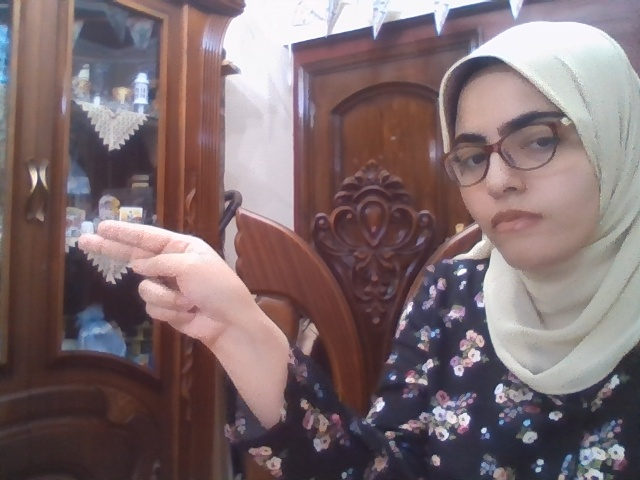H: (78, 220, 254, 344)
